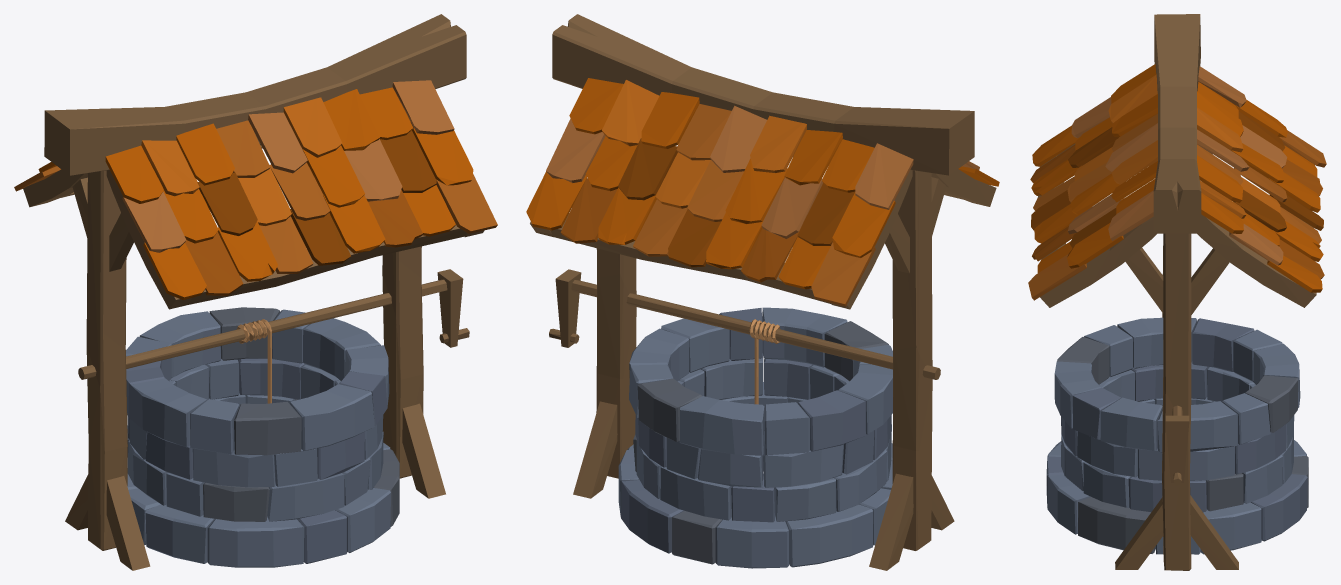
File: Well.fbx
3 views of the same model, side by side, from view 1: azimuth 30°, elevation 25°; view 2: azimuth 150°, elevation 25°; view 3: azimuth 270°, elevation 25° (orthographic). The views are drawn at different scales.
Visible parts, largest first — view 1: Well; view 2: Well; view 3: Well.
Boxes of the visible parts, <box> form: Well: <box>14,14,497,570</box>; Well: <box>526,14,999,570</box>; Well: <box>1028,14,1326,570</box>.
Size of the model in its own units: 233 by 237 by 161.
